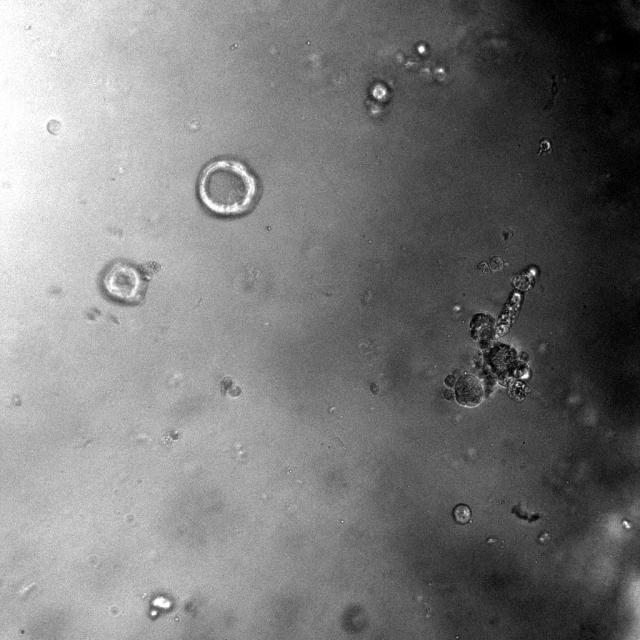organoid: (443, 266, 539, 407), (196, 155, 261, 217), (397, 41, 449, 83), (100, 261, 147, 305), (365, 80, 392, 118), (477, 255, 504, 274), (220, 376, 241, 397), (452, 503, 472, 524), (46, 119, 62, 135), (538, 138, 552, 155)
